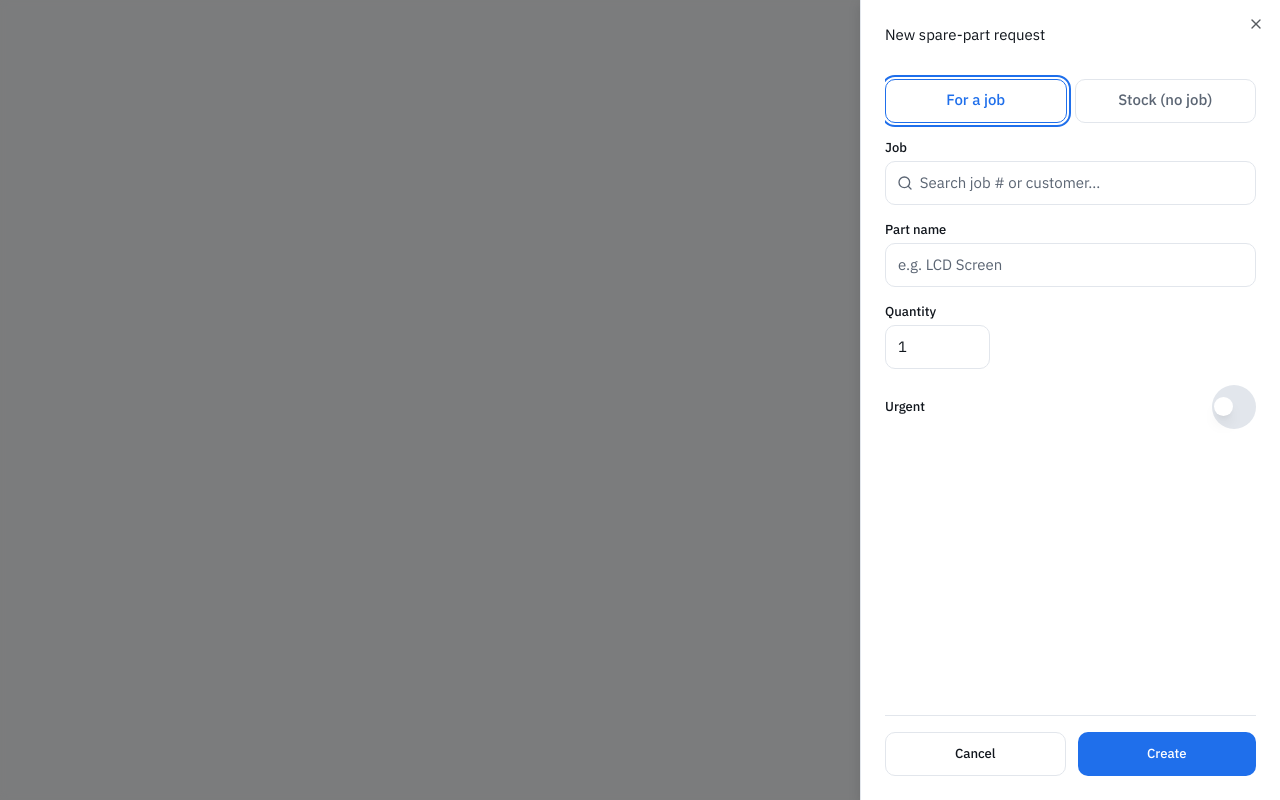
Scenario: SparePartFormSheet › create mode requires picking a job before submit
Type "Battery" into the field labelled "Part name" at (1070, 264), box [885,242,1256,286]
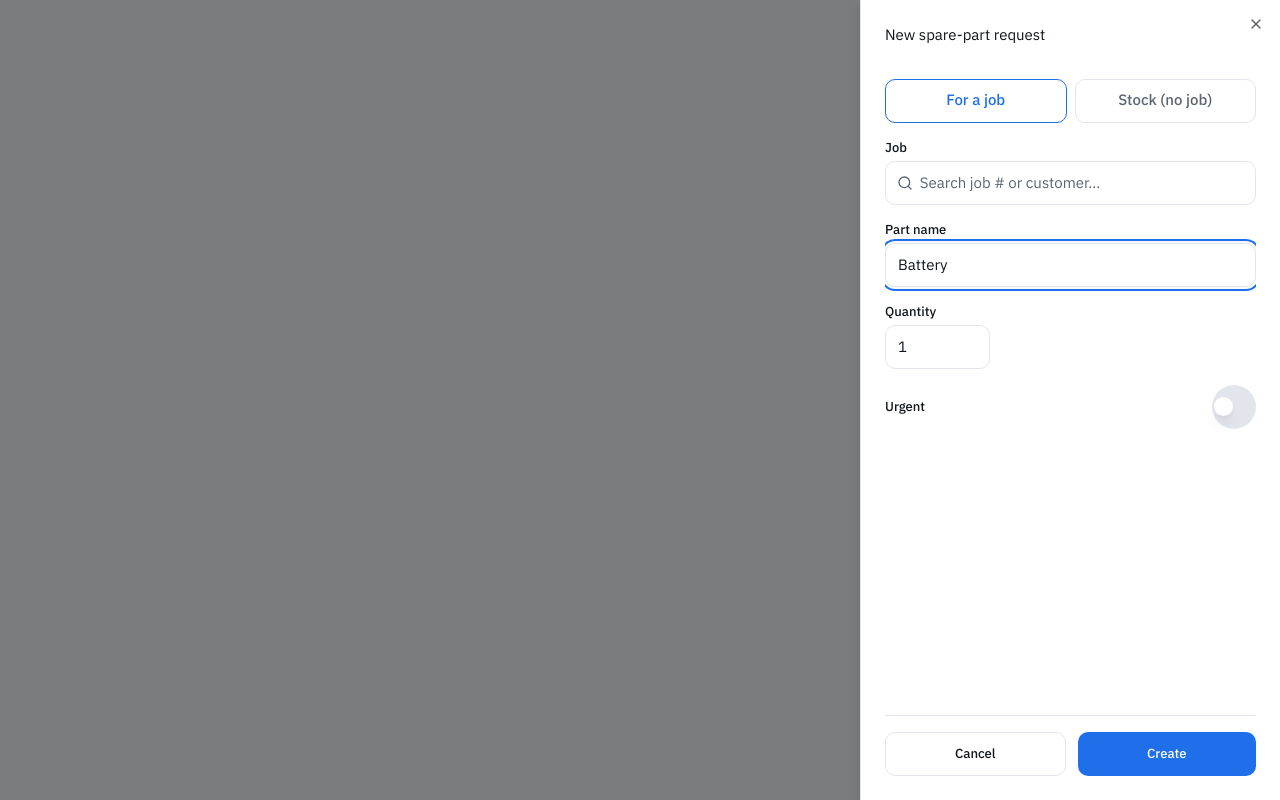
Click the button "Create" at (1167, 754), box [1078,732,1256,776]
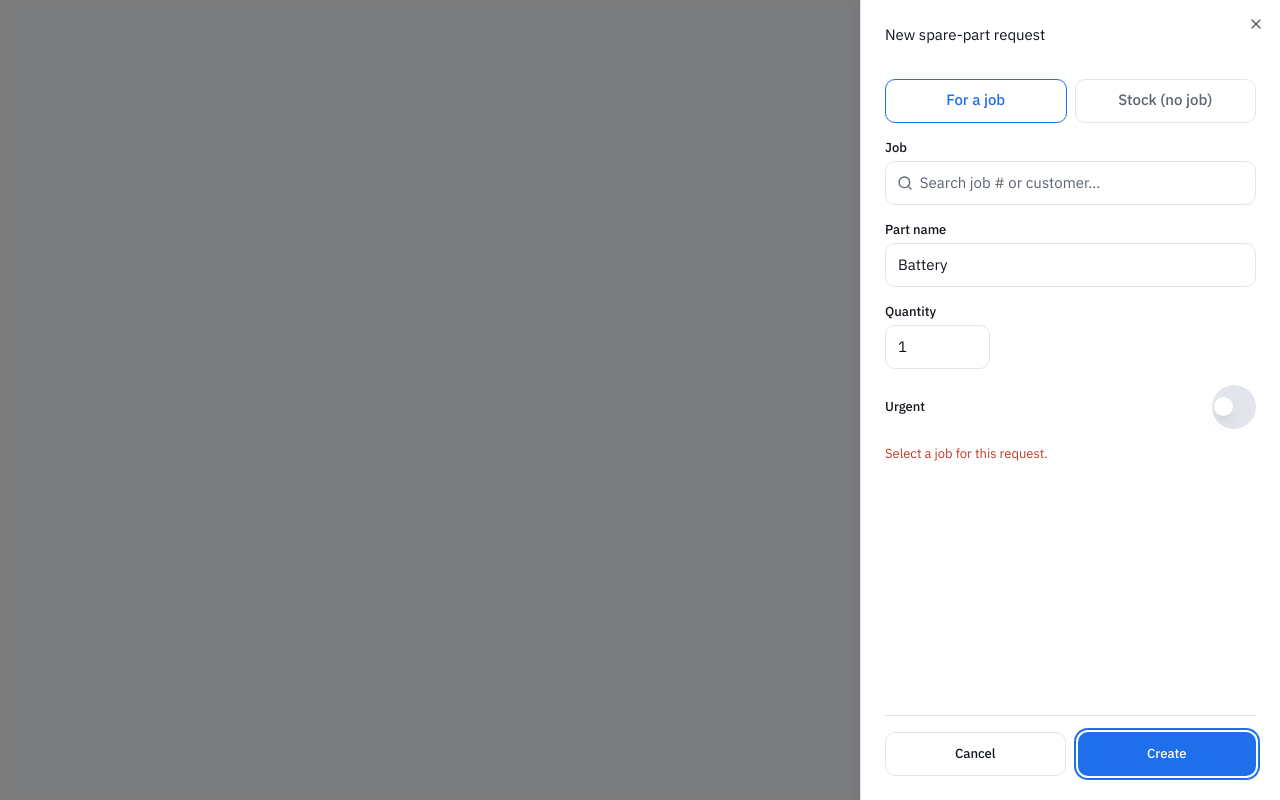
Expected: the text "Select a job for this request." is shown, [885,444,1048,462]
